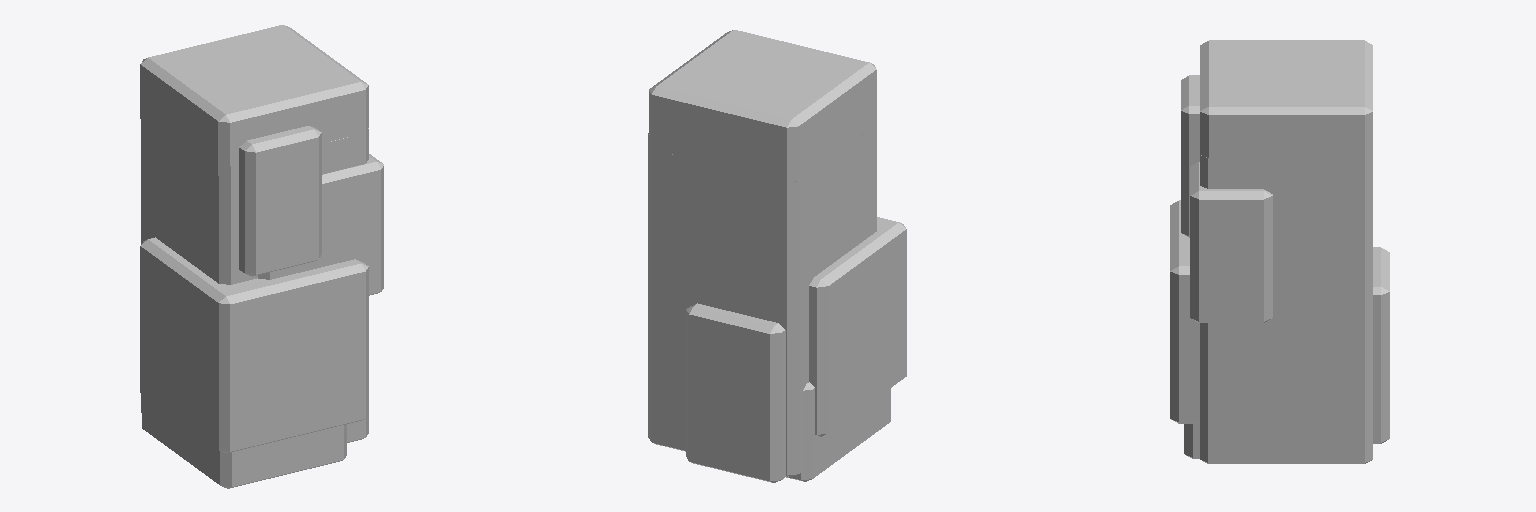
Rendered from Rock1 - Copy.obj.
The picture shows the model from 3 angles: view 1: azimuth 30°, elevation 25°; view 2: azimuth 150°, elevation 25°; view 3: azimuth 270°, elevation 25°; orthographic projection.
Parts seen in each view (by area): view 1: Rock1_Cube.006; view 2: Rock1_Cube.006; view 3: Rock1_Cube.006.
Boxes of the visible parts, x1=… form: Rock1_Cube.006: x1=140, y1=25, x2=383, y2=488; Rock1_Cube.006: x1=648, y1=30, x2=906, y2=482; Rock1_Cube.006: x1=1170, y1=40, x2=1389, y2=463.
Bounding box in the file's own units: 2.34 × 4.66 × 2.53.